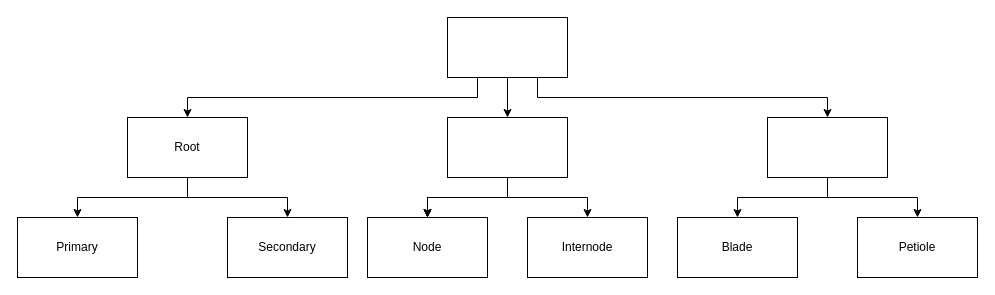
Some shapes in this 995 by 295 pixel diagram are drawn without their labels. Each missing label, with the centre of its shape:
"Leaf" goes at point 827,147.
"Plant" goes at point 507,47.
"Stem" goes at point 507,147.
